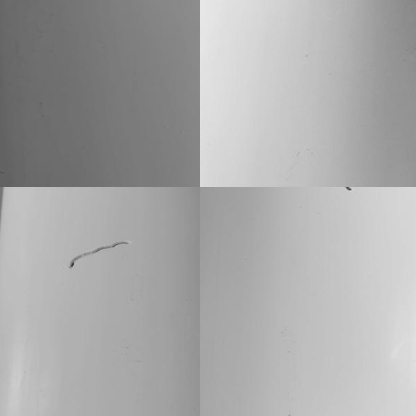kongdong: (70, 239, 128, 268)
